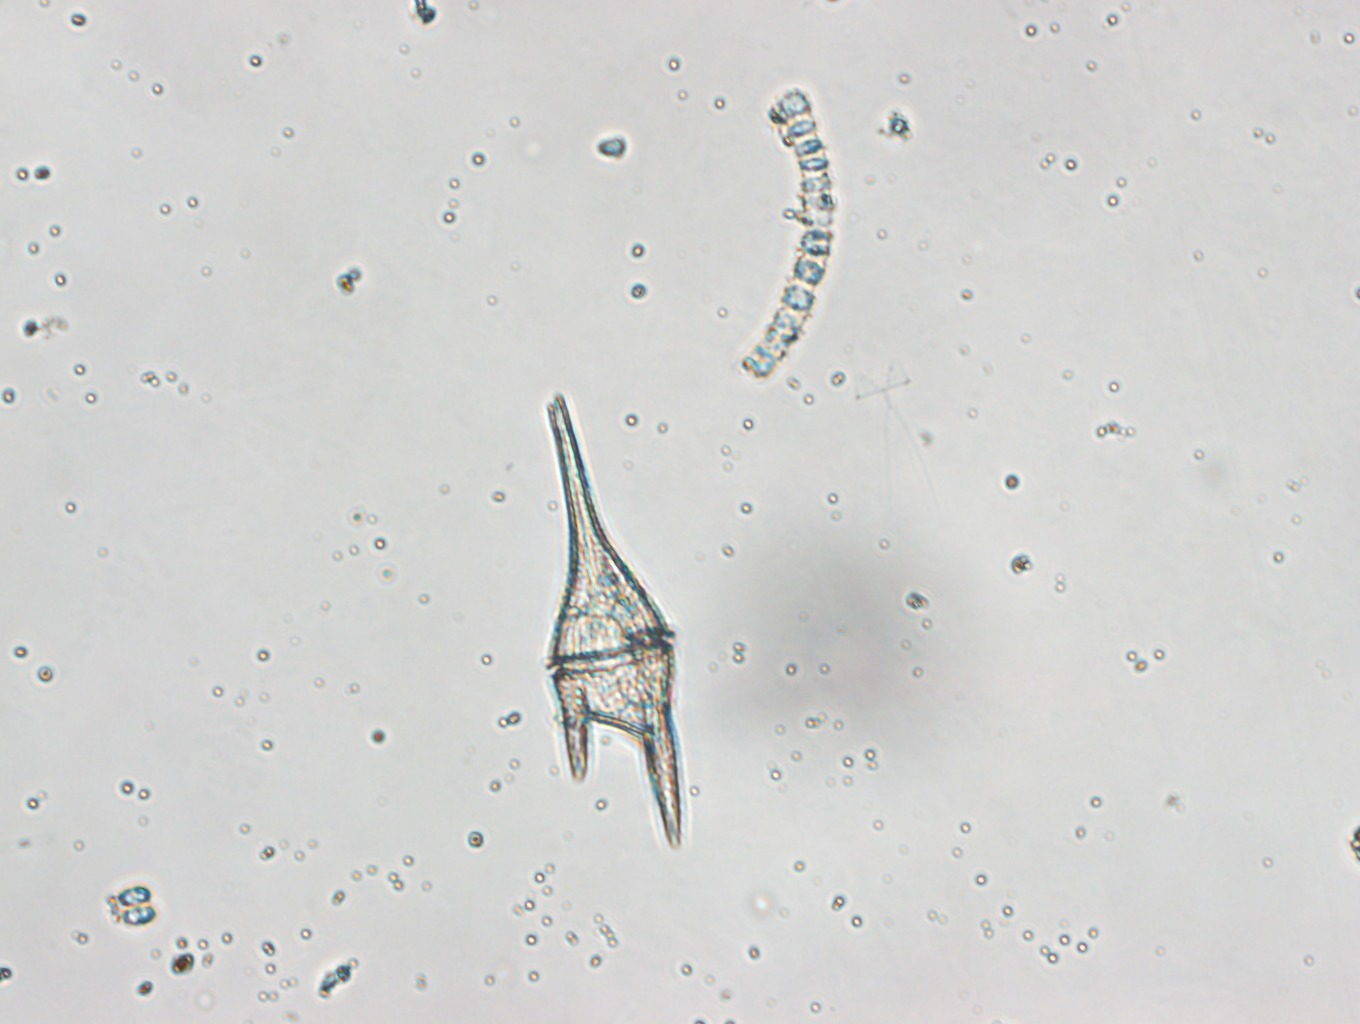ceratium furca: (548, 394, 679, 852)
chaetoceros: (742, 89, 834, 382)
